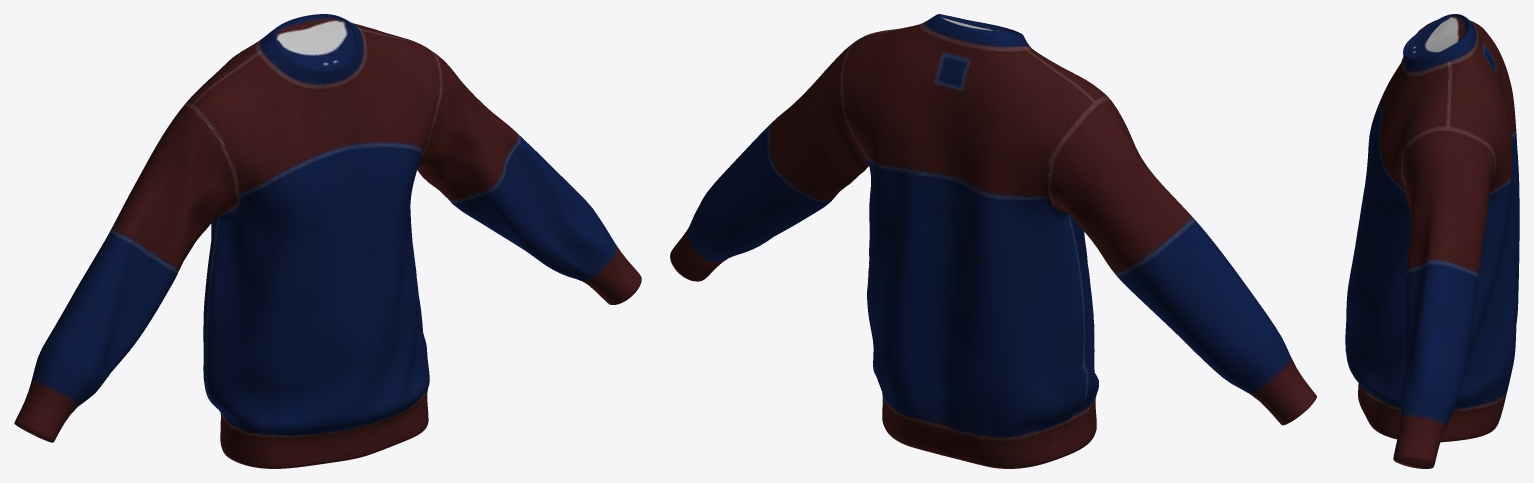
File: sudadera-basica-bicolor-lite.glb
3 views of the same model, side by side, from view 1: azimuth 30°, elevation 25°; view 2: azimuth 150°, elevation 25°; view 3: azimuth 270°, elevation 25° (orthographic). The views are drawn at different scales.
Parts seen in each view (by area): view 1: Plane__0; view 2: Plane__0; view 3: Plane__0.
Boxes of the visible parts, x1,y1,x2,y2 form: Plane__0: (14,14,641,468); Plane__0: (670,14,1316,468); Plane__0: (1345,14,1519,468).
Bounding box in the file's own units: 1.11 × 0.7 × 0.2896.
Materials: 1 (1 with a texture image).
